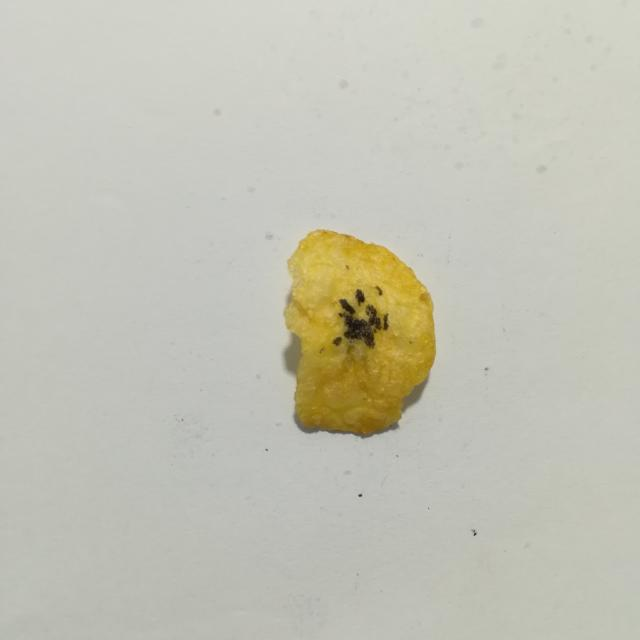chip: (285, 230, 435, 434)
damaged: (338, 299, 382, 348), (355, 289, 365, 306), (383, 313, 389, 330), (333, 337, 341, 346), (375, 287, 382, 295)
